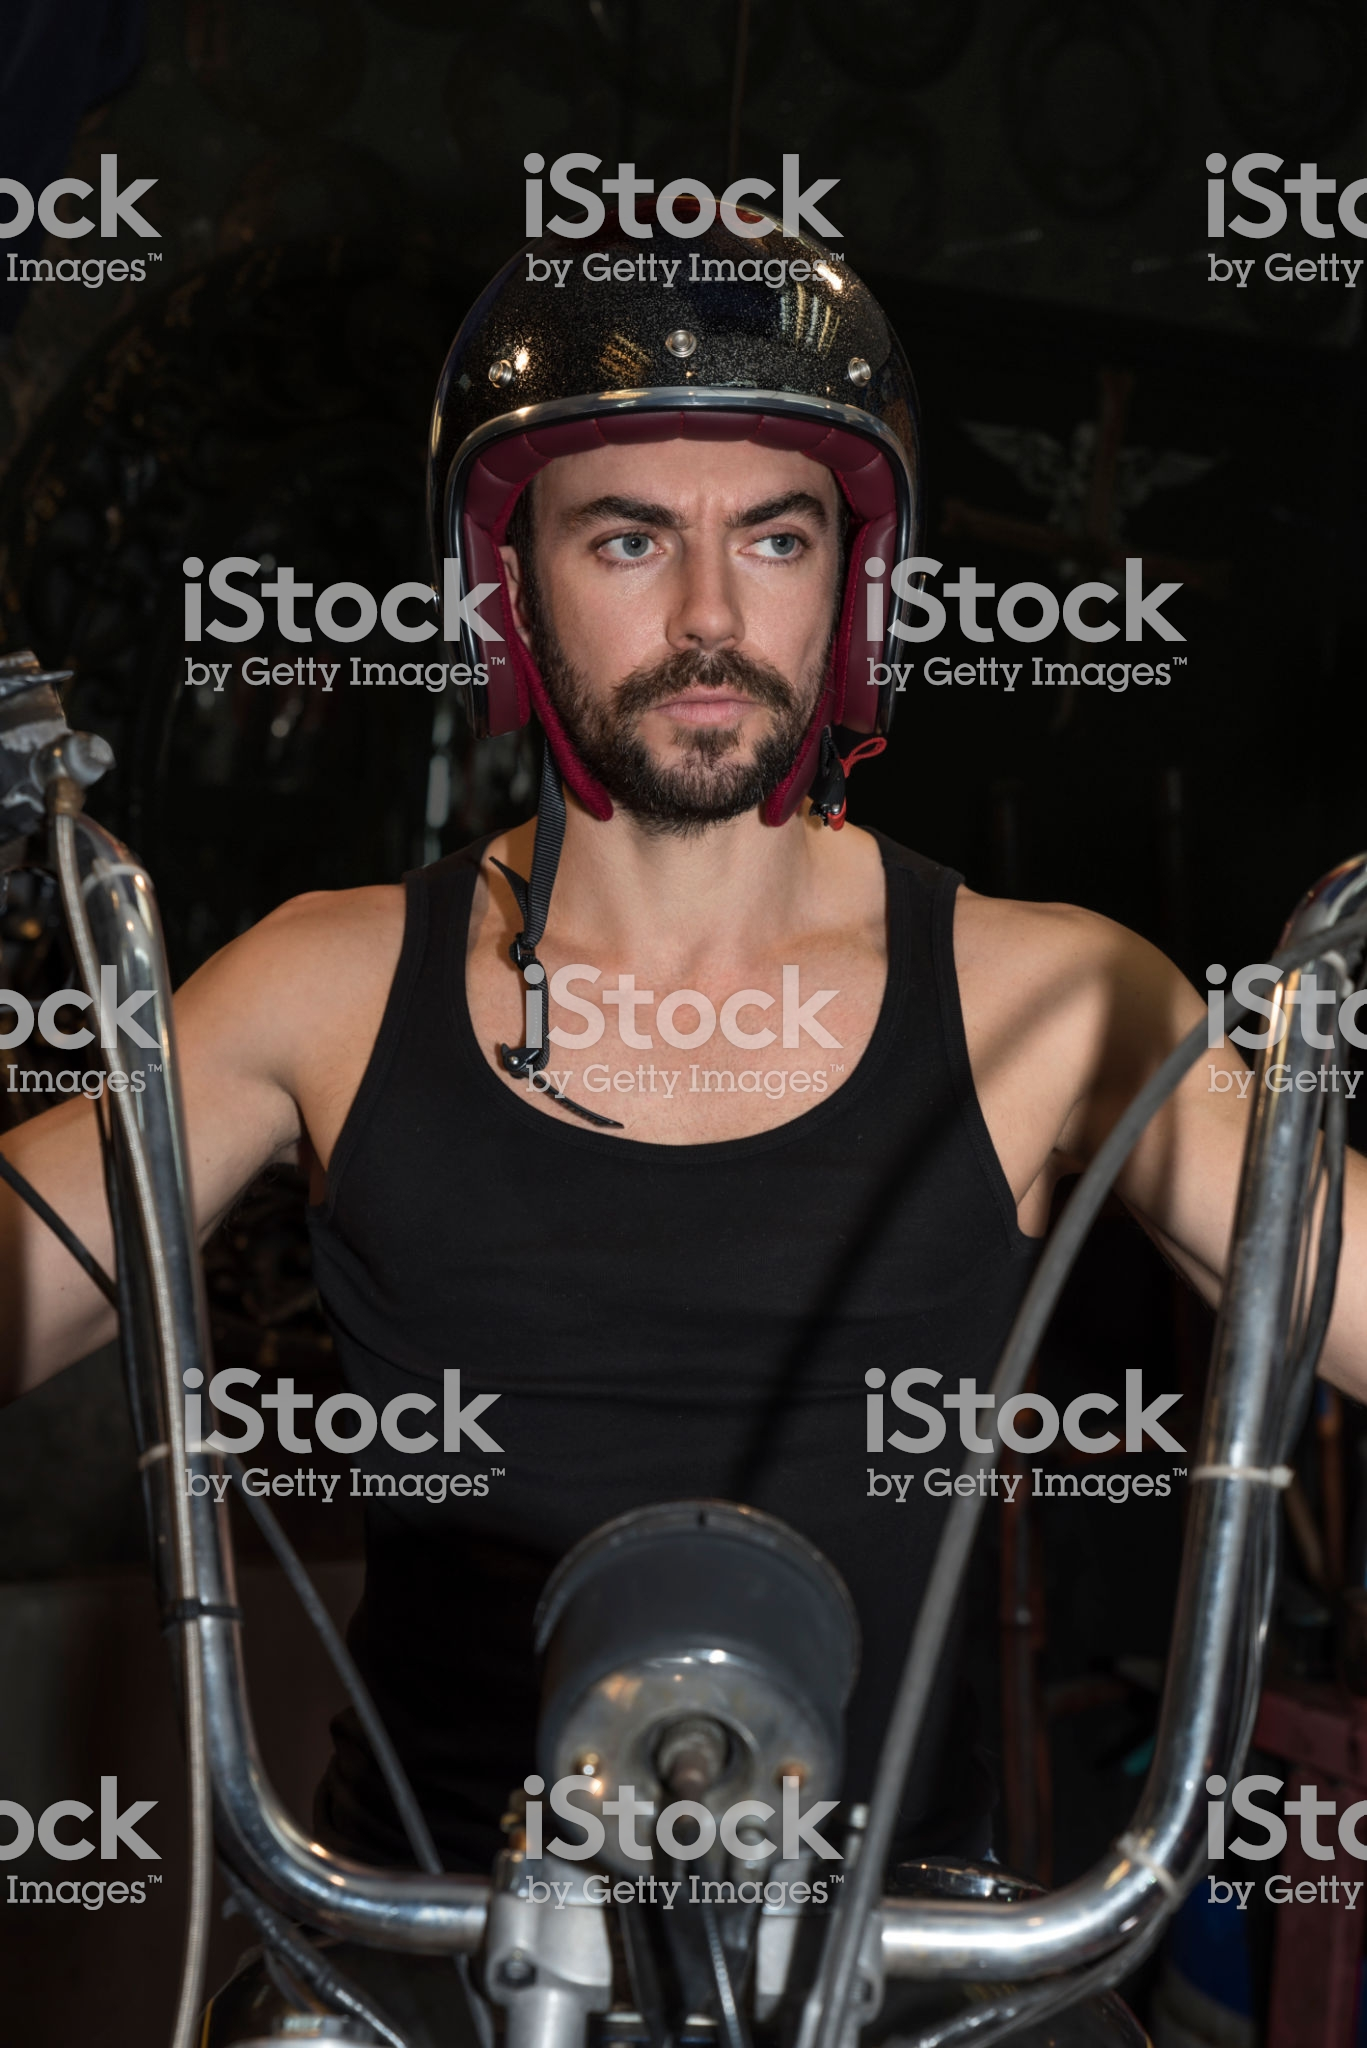helmet: (413, 185, 961, 741)
